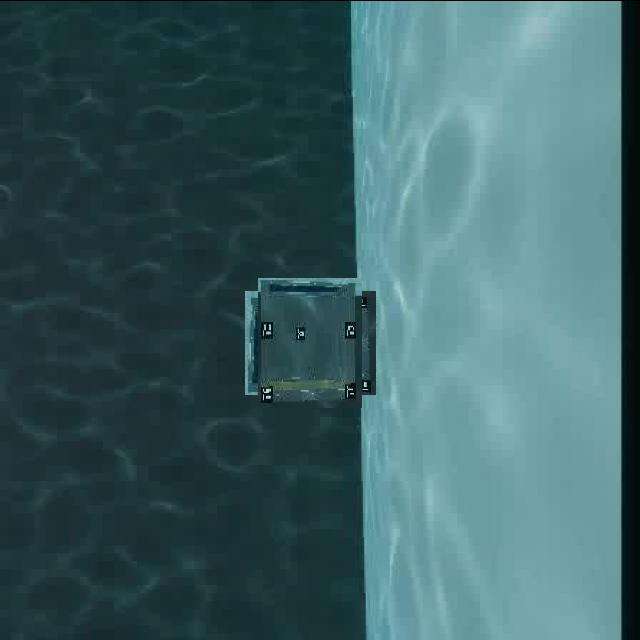Docking Station: (252, 283, 370, 401)
